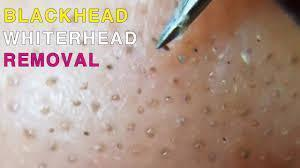blackhead: (128, 30, 293, 165), (22, 76, 76, 163), (79, 77, 131, 151)
